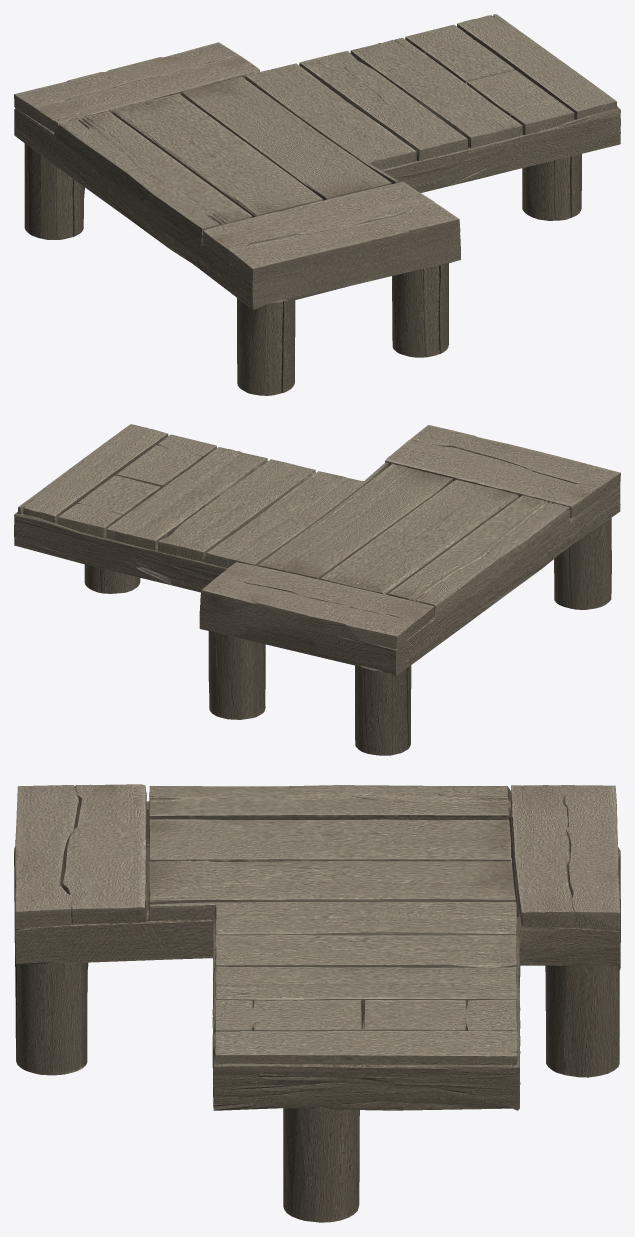
Rendered from Wooden_dock.glb.
The picture shows the model from 3 angles, top to bottom: view 1: azimuth 30°, elevation 25°; view 2: azimuth 150°, elevation 25°; view 3: azimuth 270°, elevation 25°; orthographic projection. The views are drawn at different scales.
Bounding box in the file's own units: 1.9 × 0.5409 × 1.78.
1 material, 1 textured.
